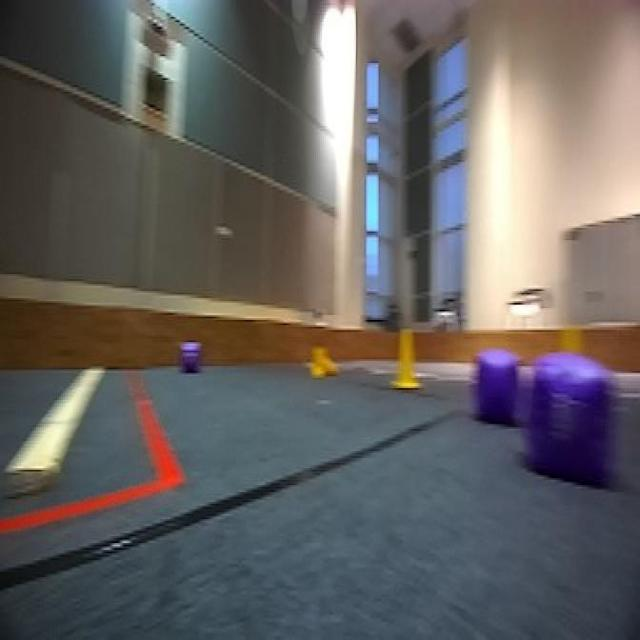frc_cone: (390, 325, 424, 393), (306, 342, 340, 381)
frc_cube: (523, 354, 615, 485), (476, 361, 518, 420), (177, 340, 202, 380)
